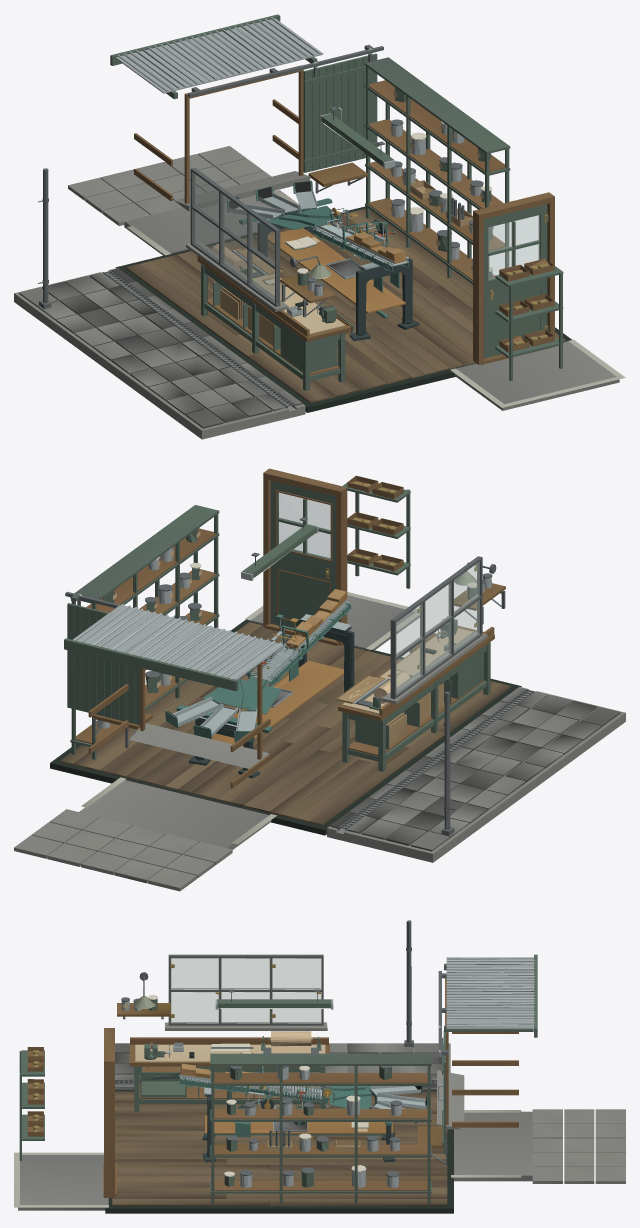
Rendered from mini.glb.
The picture shows the model from 3 angles, top to bottom: view 1: azimuth 30°, elevation 25°; view 2: azimuth 150°, elevation 25°; view 3: azimuth 270°, elevation 25°; orthographic projection. The views are drawn at different scales.
Parts seen in each view (by area): view 1: part/depot/court_paving, Stock_label_00, part/depot/door_glazing; view 2: part/depot/court_paving, Stock_label_00, part/depot/door_glazing; view 3: part/depot/court_paving, Stock_label_00, part/depot/door_glazing.
Part boxes in pixels (x1,y1,x2,y2): part/depot/court_paving: (14,65,619,439); Stock_label_00: (38,14,625,412); part/depot/door_glazing: (193,173,539,302); part/depot/court_paving: (14,468,625,891); Stock_label_00: (50,480,534,844); part/depot/door_glazing: (278,492,479,694); part/depot/court_paving: (18,978,625,1210); Stock_label_00: (14,920,537,1213); part/depot/door_glazing: (172,959,320,1021).
Size of the model in its own units: 5.82 by 2.8 by 9.13.
5 materials, 5 textured.
